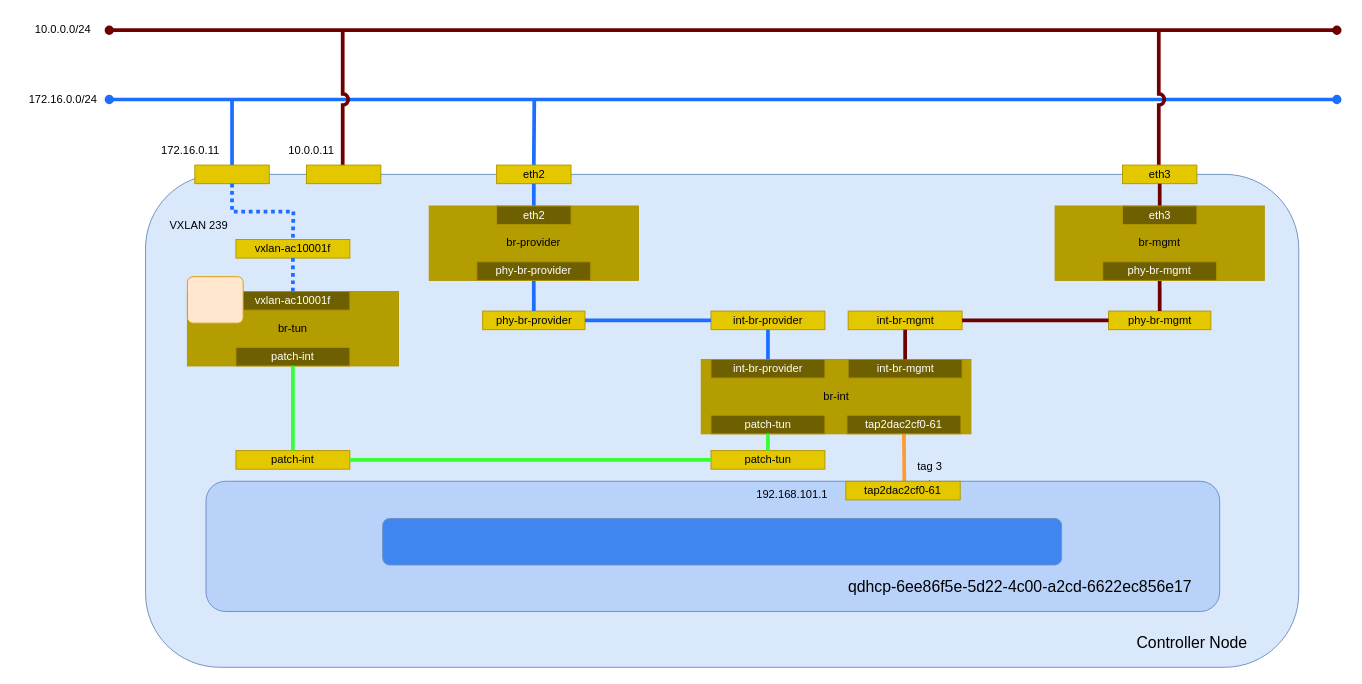
This 1362x684 diagram has some shape labels left out. Here are the shapes that lost their labels. From the top down, the centre of each, then its label:
At (231,174): "eth0".
At (343,174): "eth1".
At (214,299): "vxlan 239 ↑ ↓ tag 3".
At (722,541): "DHCP agent".
